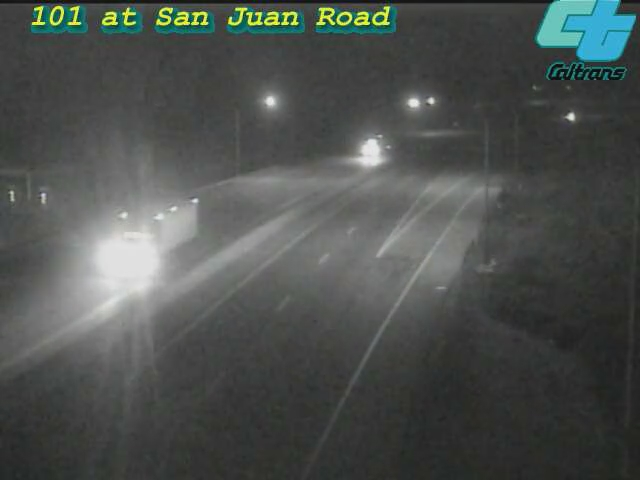vehicle: (108, 199, 188, 279), (349, 124, 399, 174), (546, 91, 596, 141)
